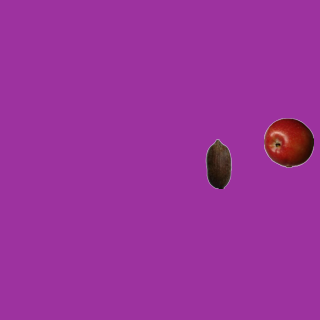Apple Braeburn: (263, 117, 313, 167)
Nut Pecan: (193, 138, 243, 188)
